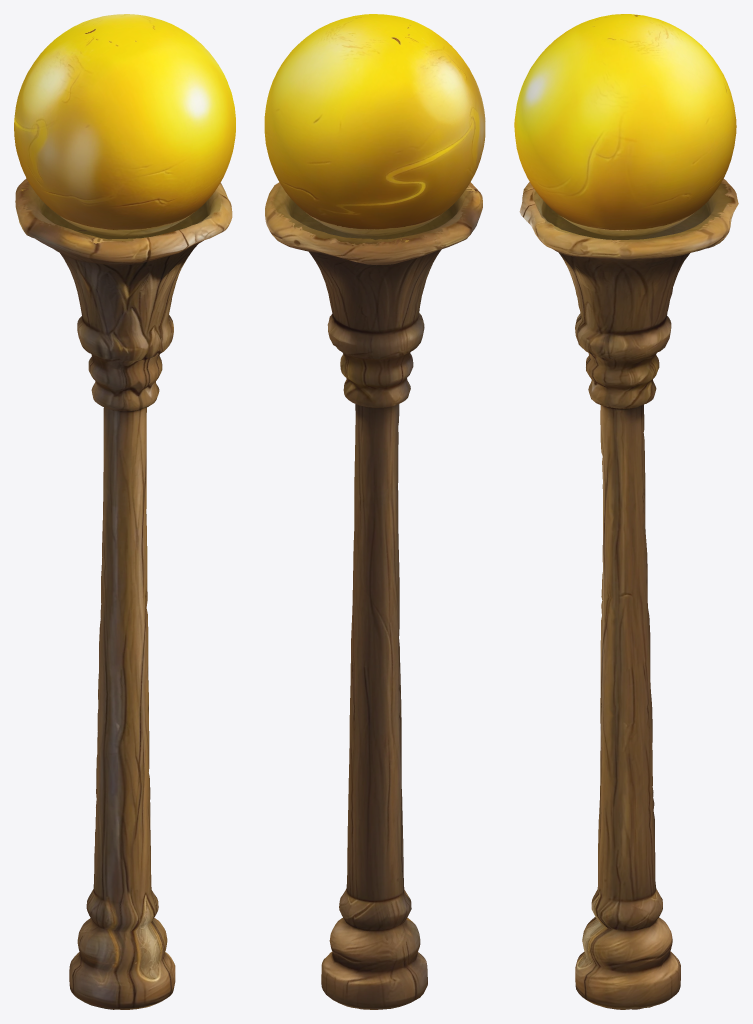
File: celestial-lightbringer.glb
The picture shows the model from 3 angles, left to right: view 1: azimuth 30°, elevation 25°; view 2: azimuth 150°, elevation 25°; view 3: azimuth 270°, elevation 25°; orthographic projection.
Size of the model in its own units: 0.3705 by 1.76 by 0.3704.
1 material, 1 textured.
